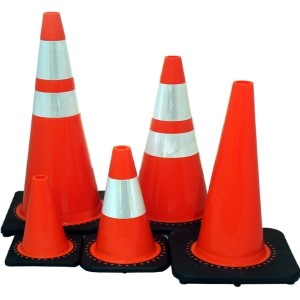traffic cone: (1, 10, 118, 237), (170, 80, 300, 284), (130, 55, 224, 234), (80, 145, 170, 272), (5, 174, 80, 267)
